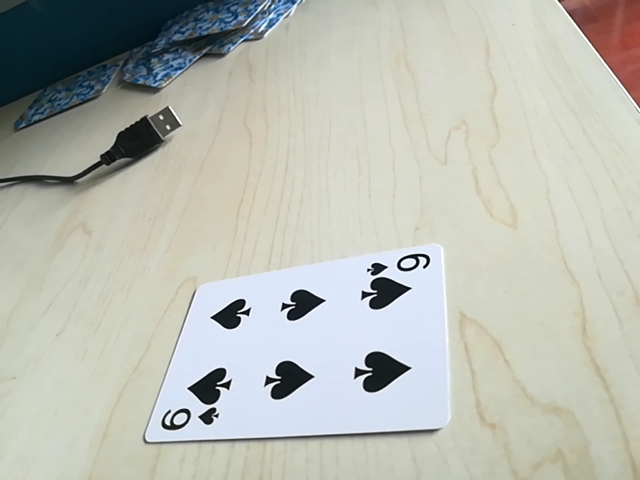ht 6: (152, 403, 224, 437), (366, 251, 433, 280)
